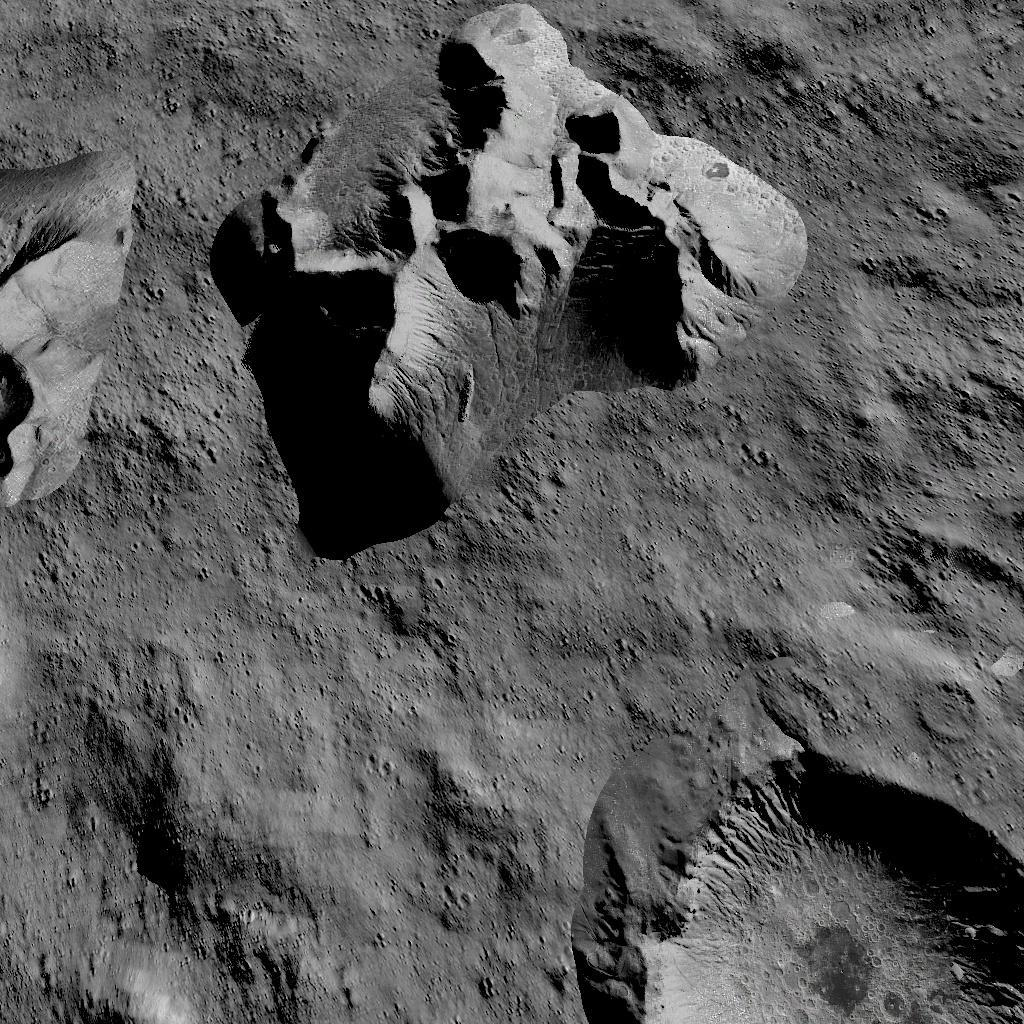Boulders: (203, 0, 809, 552), (0, 144, 139, 498), (72, 976, 236, 1024)
Crater: (573, 730, 1024, 1024), (873, 518, 1024, 664), (117, 792, 222, 901)
Plan surface: (260, 566, 552, 1024), (829, 0, 1024, 468), (12, 566, 244, 768), (575, 569, 849, 708)
